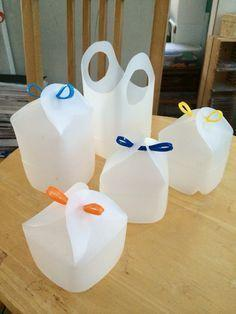HDPE: (21, 181, 128, 292), (10, 82, 96, 193), (80, 40, 156, 163), (157, 107, 234, 196), (99, 136, 169, 224)
